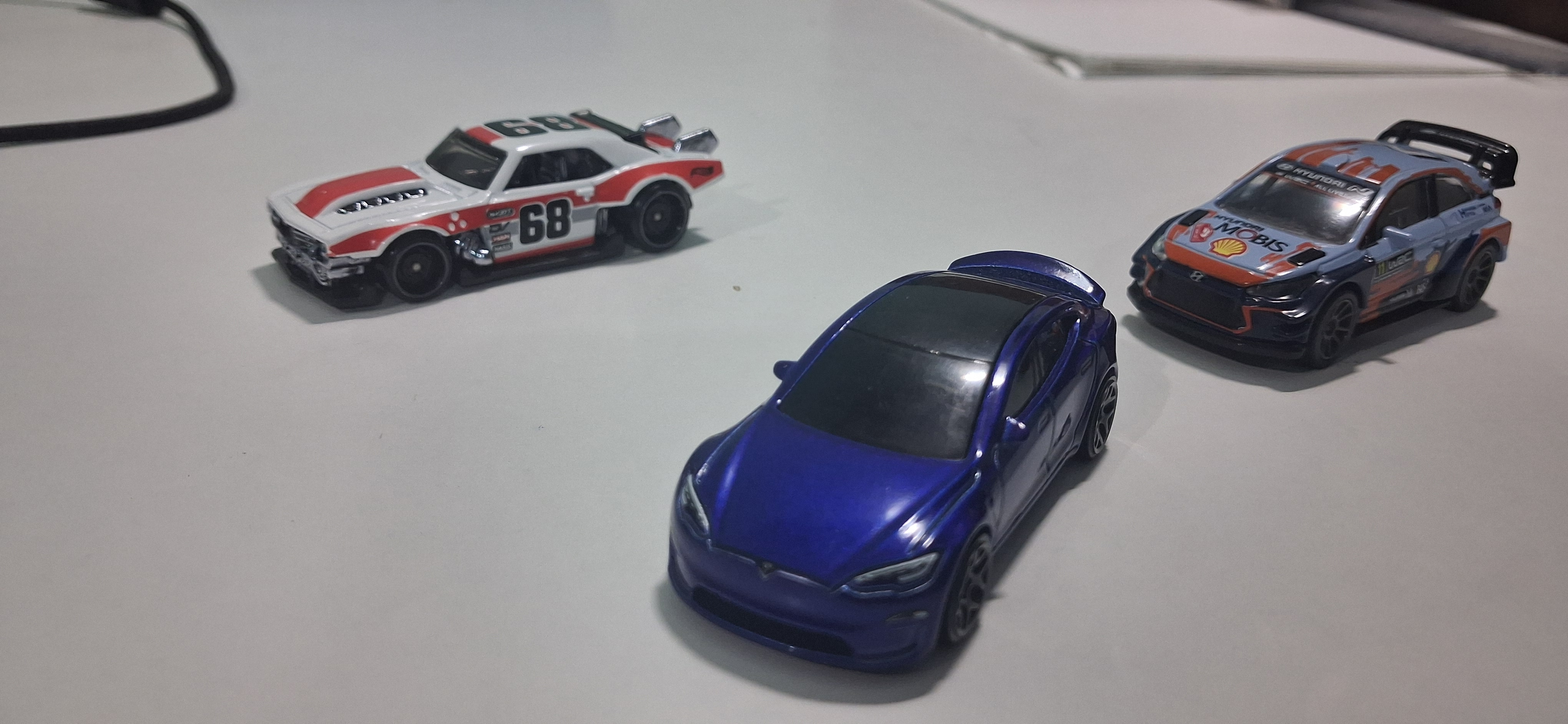Camaro: (242, 60, 746, 363)
Hyundai_I20_WRC: (1107, 88, 1545, 414)
Tesla_Model_S_Plaid: (535, 243, 1149, 684)
